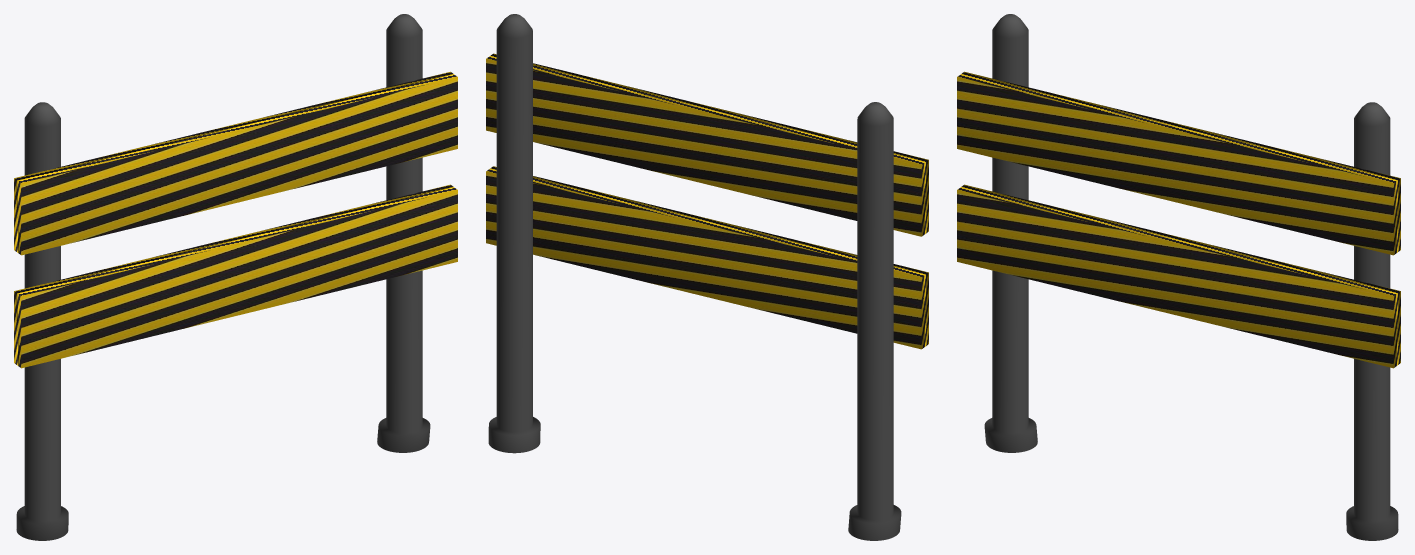
File: Road_sign.glb
The picture shows the model from 3 angles, left to right: view 1: azimuth 30°, elevation 25°; view 2: azimuth 150°, elevation 25°; view 3: azimuth 330°, elevation 25°; orthographic projection.
Parts seen in each view (by area): view 1: Cube, Cylinder; view 2: Cube, Cylinder; view 3: Cube, Cylinder.
Part boxes in pixels (left/top/right/bottom): Cube: left=14, top=71, right=457, bottom=368; Cylinder: left=16, top=14, right=430, bottom=540; Cube: left=486, top=53, right=928, bottom=349; Cylinder: left=488, top=14, right=901, bottom=540; Cube: left=957, top=71, right=1400, bottom=368; Cylinder: left=984, top=14, right=1398, bottom=540.
Size of the model in its own units: 6.94 by 6.47 by 0.8218.
Materials: 2 (1 with a texture image).
